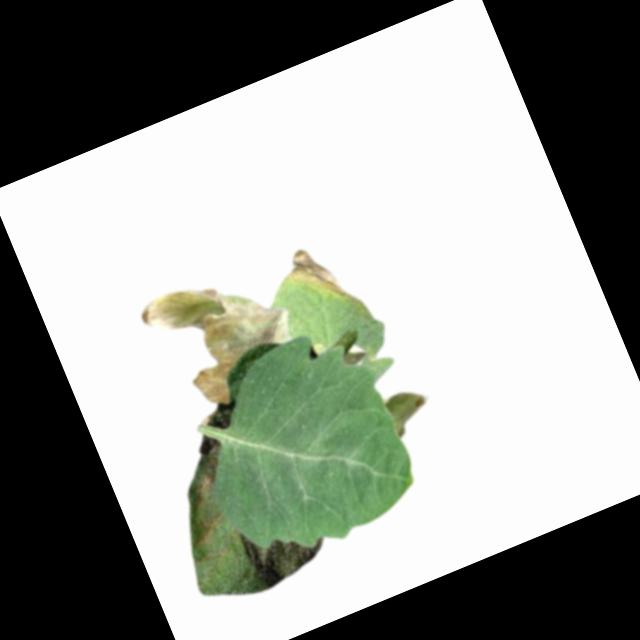Late_blight: (135, 250, 314, 419), (280, 237, 350, 312), (384, 382, 438, 437), (185, 508, 234, 552), (186, 472, 220, 506)
healthy: (179, 305, 449, 573)
